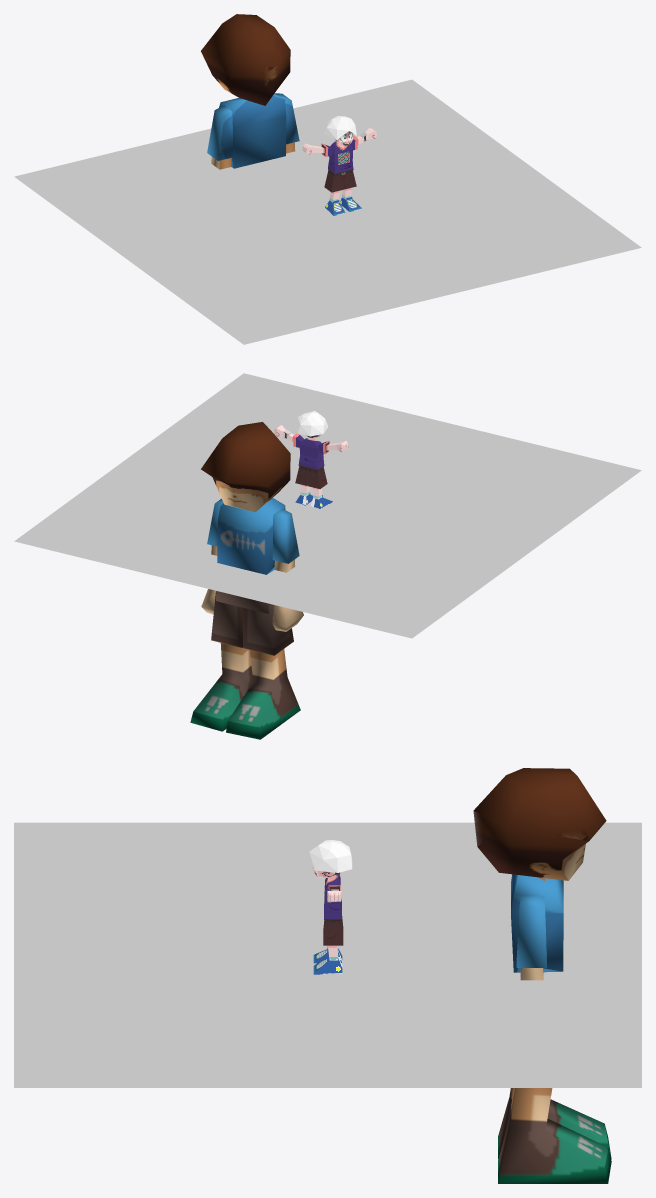
The model's file is character (1).glb.
3 renders of one model, top to bottom at view 1: azimuth 30°, elevation 25°; view 2: azimuth 150°, elevation 25°; view 3: azimuth 270°, elevation 25°, orthographic. The views are drawn at different scales.
Visible parts, largest first — view 1: Plane.001, Mesh, Cube.002; view 2: Plane.001, Mesh, Cube.002; view 3: Plane.001, Mesh, Cube.002.
Part boxes in pixels (x1,y1,x2,y2): Plane.001: (14, 79, 641, 344); Mesh: (201, 14, 299, 169); Cube.002: (302, 116, 376, 215); Plane.001: (14, 373, 641, 638); Mesh: (190, 422, 303, 739); Cube.002: (274, 411, 348, 508); Plane.001: (14, 822, 641, 1087); Mesh: (473, 768, 611, 1183); Cube.002: (309, 840, 352, 974).
Bounding box in the file's own units: 81.1 × 54.9 × 81.1.
Materials: 4 (2 with a texture image).
